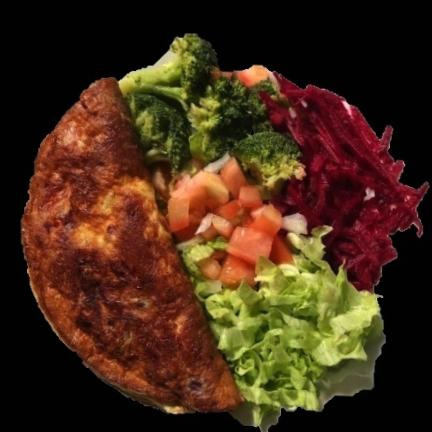beet: (264, 75, 427, 289)
broccoli: (118, 34, 301, 181)
egg: (22, 78, 242, 412)
salad: (192, 227, 381, 424)
tomato: (168, 158, 292, 286)
